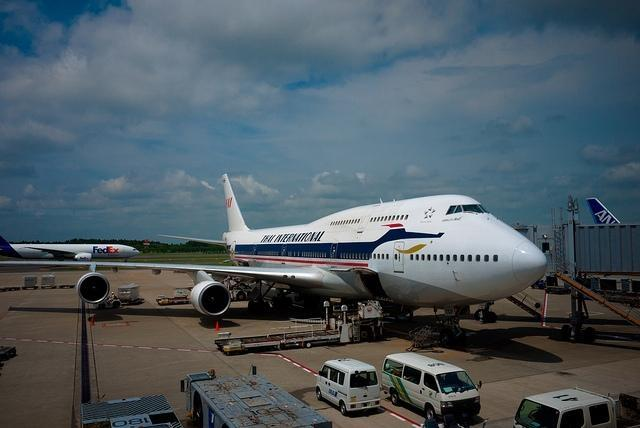bus: (382, 351, 479, 420)
car: (316, 356, 381, 415)
truck: (181, 372, 326, 423), (382, 350, 482, 420), (513, 384, 640, 428), (78, 394, 185, 428), (93, 283, 144, 309), (223, 340, 280, 356), (156, 294, 191, 306)
